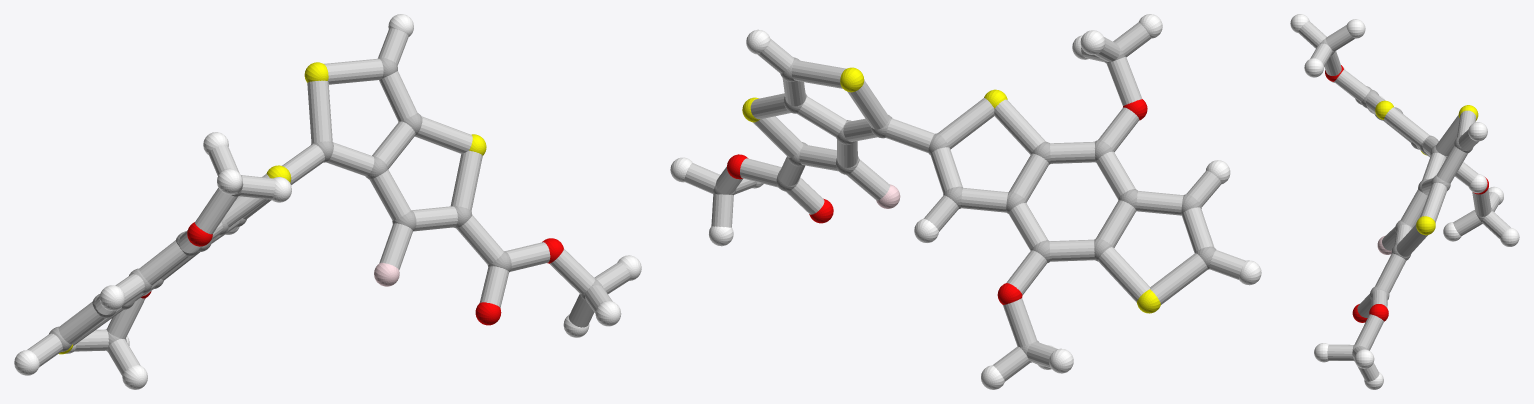
Rendered from color.glb.
3 renders of one model, left to right at view 1: azimuth 30°, elevation 25°; view 2: azimuth 150°, elevation 25°; view 3: azimuth 270°, elevation 25°, orthographic. The views are drawn at different scales.
Parts seen in each view (by area): view 1: grp15205, grp8689, grp1, grp13395, grp7241; view 2: grp15205, grp8689, grp1, grp7241, grp13395; view 3: grp15205, grp8689, grp1, grp7241, grp13395.
Part boxes in pixels (x1=…): grp15205: x1=27, y1=28, x2=630, y2=375; grp8689: x1=14, y1=14, x2=641, y2=389; grp1: x1=49, y1=57, x2=602, y2=351; grp13395: x1=141, y1=222, x2=563, y2=325; grp7241: x1=59, y1=62, x2=486, y2=354; grp15205: x1=684, y1=22, x2=1245, y2=381; grp8689: x1=670, y1=14, x2=1261, y2=389; grp1: x1=713, y1=42, x2=1216, y2=362; grp7241: x1=742, y1=67, x2=1160, y2=313; grp13395: x1=727, y1=99, x2=1147, y2=304; grp15205: x1=1298, y1=21, x2=1510, y2=381; grp8689: x1=1290, y1=14, x2=1519, y2=389; grp1: x1=1320, y1=38, x2=1492, y2=361; grp7241: x1=1375, y1=100, x2=1478, y2=235; grp13395: x1=1325, y1=65, x2=1488, y2=322.
Bounding box in the file's own units: 16.56 × 7.78 × 7.
